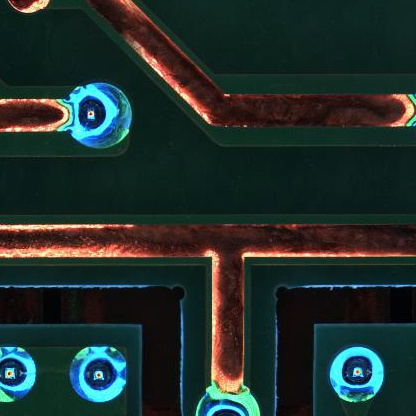spot: (65, 81, 134, 150), (69, 344, 128, 404), (328, 343, 386, 403)
